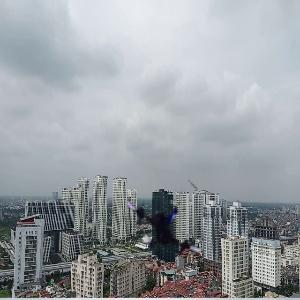drone: (120, 168, 219, 267)
